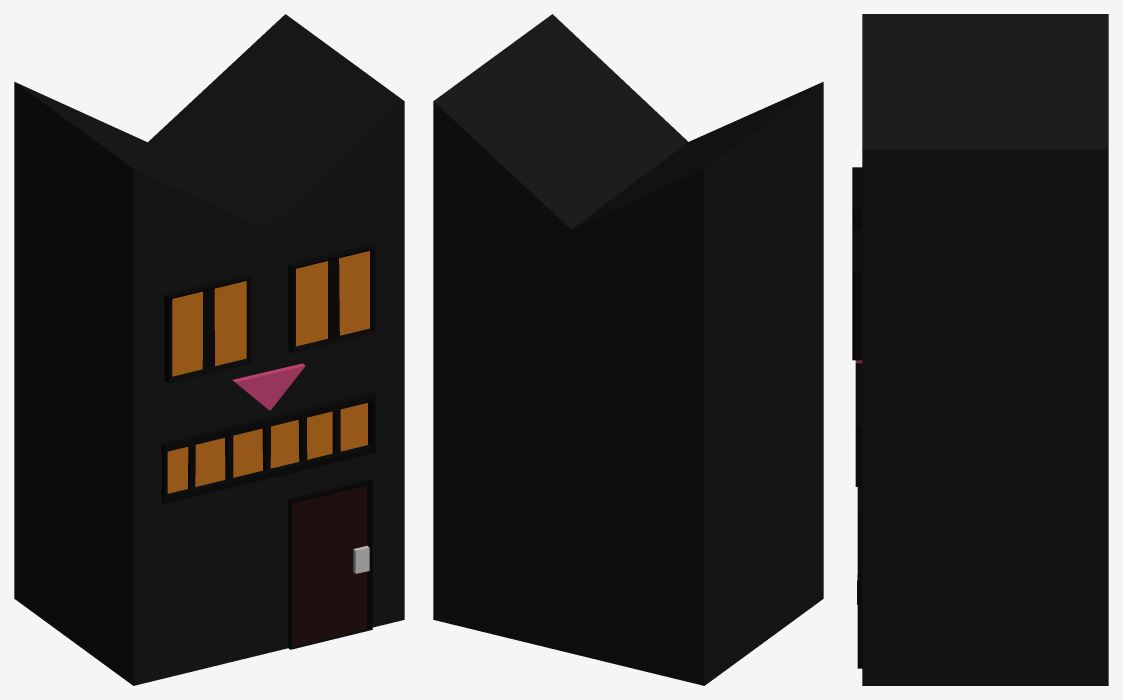
The model's file is Building.FBX.
3 views of the same model, side by side, from view 1: azimuth 30°, elevation 25°; view 2: azimuth 150°, elevation 25°; view 3: azimuth 270°, elevation 25° (orthographic). The views are drawn at different scales.
Visible parts, largest first — view 1: Cube; view 2: Cube; view 3: Cube.
Boxes of the visible parts, <box> form: Cube: <box>14,14,404,685</box>; Cube: <box>433,14,823,685</box>; Cube: <box>852,14,1108,685</box>.
Bounding box in the file's own units: 3822 × 6990 × 3026.
